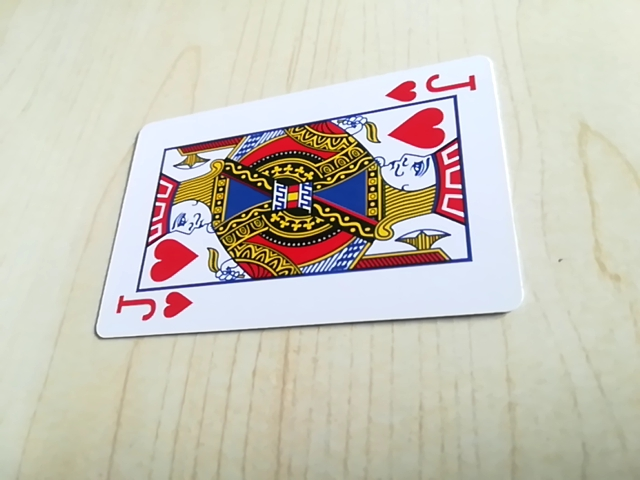hx j: (109, 287, 195, 332), (384, 69, 481, 105)
